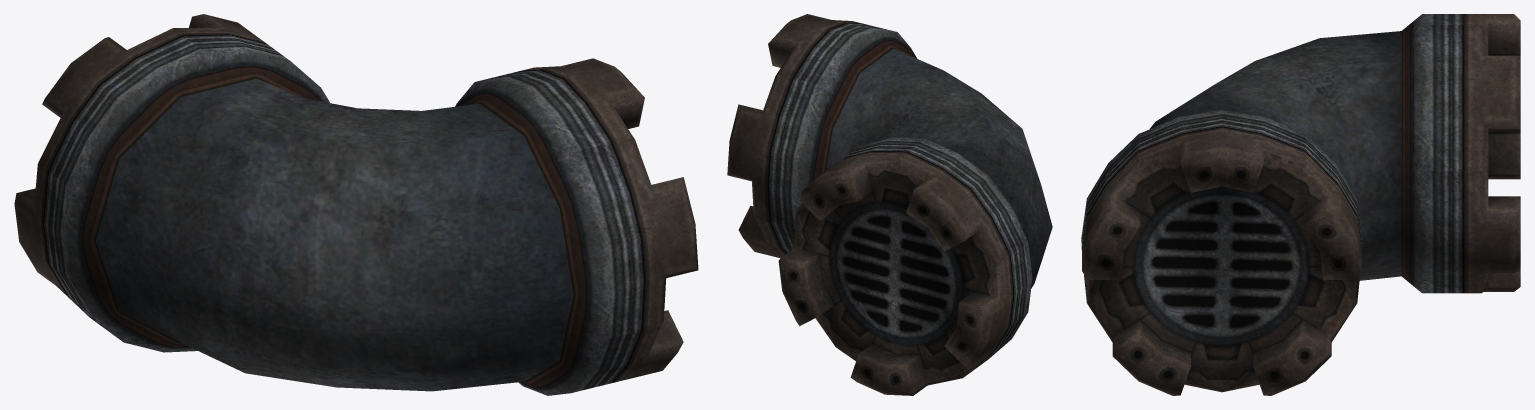
File: tech_brown_bend_short.dae
3 views of the same model, side by side, from view 1: azimuth 30°, elevation 25°; view 2: azimuth 150°, elevation 25°; view 3: azimuth 270°, elevation 25° (orthographic). The views are drawn at different scales.
Parts seen in each view (by area): view 1: polySurface790; view 2: polySurface790; view 3: polySurface790.
Part boxes in pixels (box(x1,y1,x2,y2)): polySurface790: box(14, 14, 698, 395); polySurface790: box(727, 14, 1052, 395); polySurface790: box(1081, 14, 1520, 395).
Size of the model in its own units: 0.7778 by 0.5035 by 0.7778.
1 material, 1 textured.
